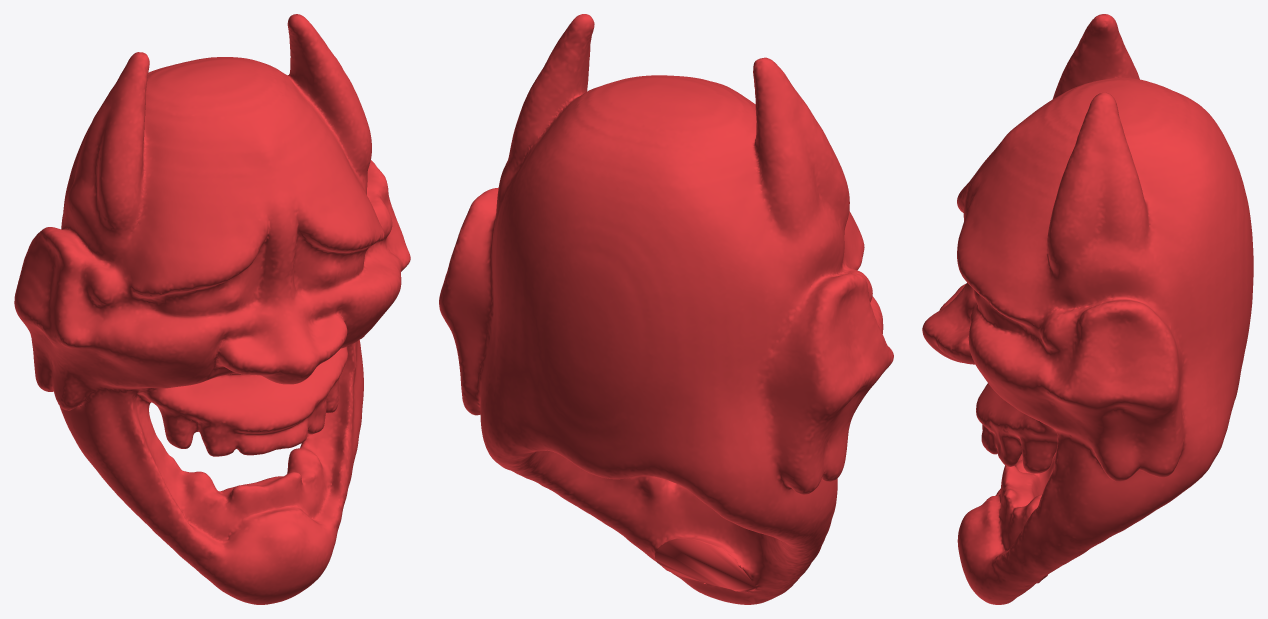
The model's file is yuh.glb.
3 renders of one model, left to right at view 1: azimuth 30°, elevation 25°; view 2: azimuth 150°, elevation 25°; view 3: azimuth 270°, elevation 25°, orthographic. The views are drawn at different scales.
Parts seen in each view (by area): view 1: mesh; view 2: mesh; view 3: mesh.
Part boxes in pixels (x1,y1,x2,y2): mesh: [14, 14, 410, 604]; mesh: [439, 14, 893, 604]; mesh: [922, 14, 1253, 604].
Bounding box in the file's own units: 1.18 × 1.7 × 0.9383.
